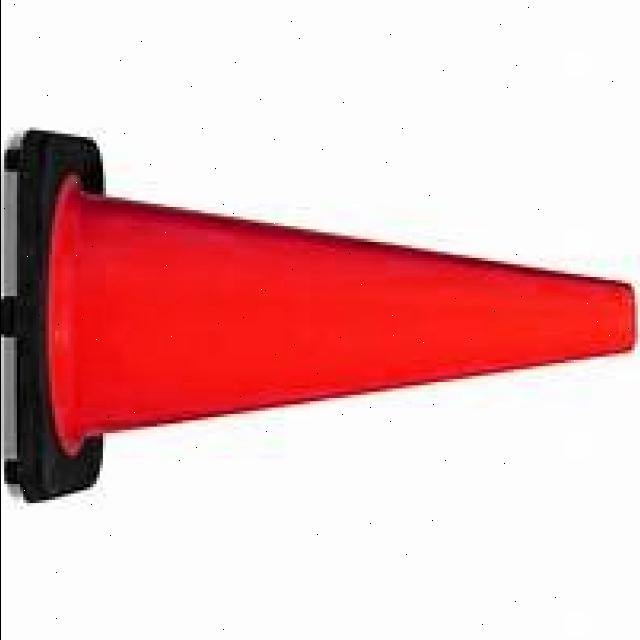traffic cone: (1, 117, 639, 512)
